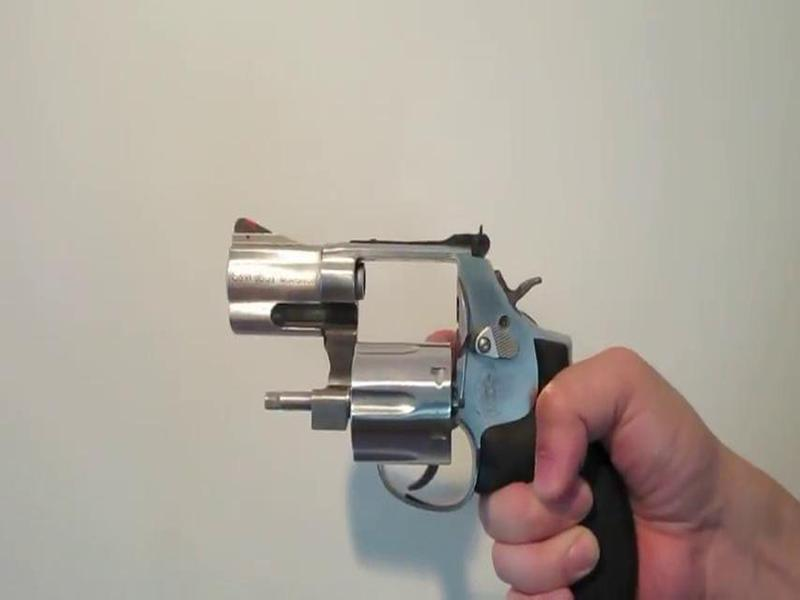Revolver: (211, 207, 639, 569)
